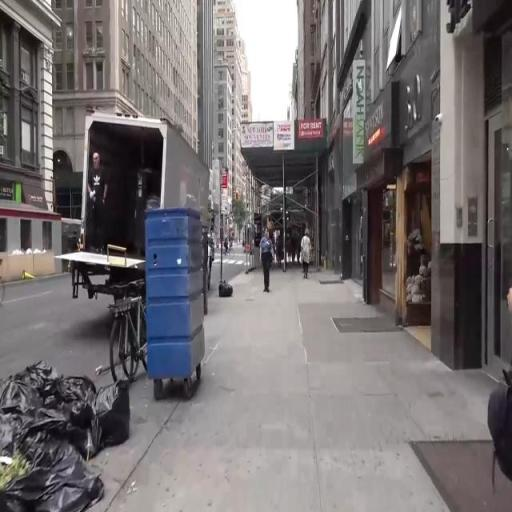person: (260, 224, 276, 289), (300, 227, 314, 282), (292, 235, 299, 264)
